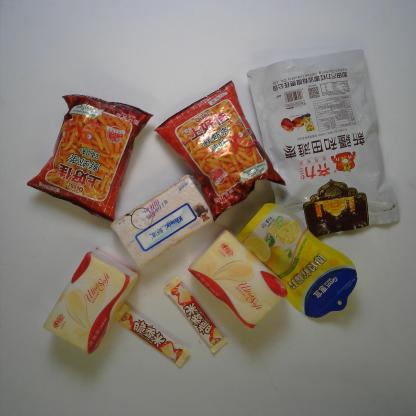Chocolate: (162, 275, 228, 354), (113, 304, 190, 367)
Dried Food: (246, 49, 400, 238)
Dried Fruit: (236, 203, 358, 319)
Puffed Food: (154, 79, 286, 223), (26, 94, 154, 222)
Tissue: (42, 247, 139, 356), (187, 228, 288, 329), (110, 174, 214, 268)
